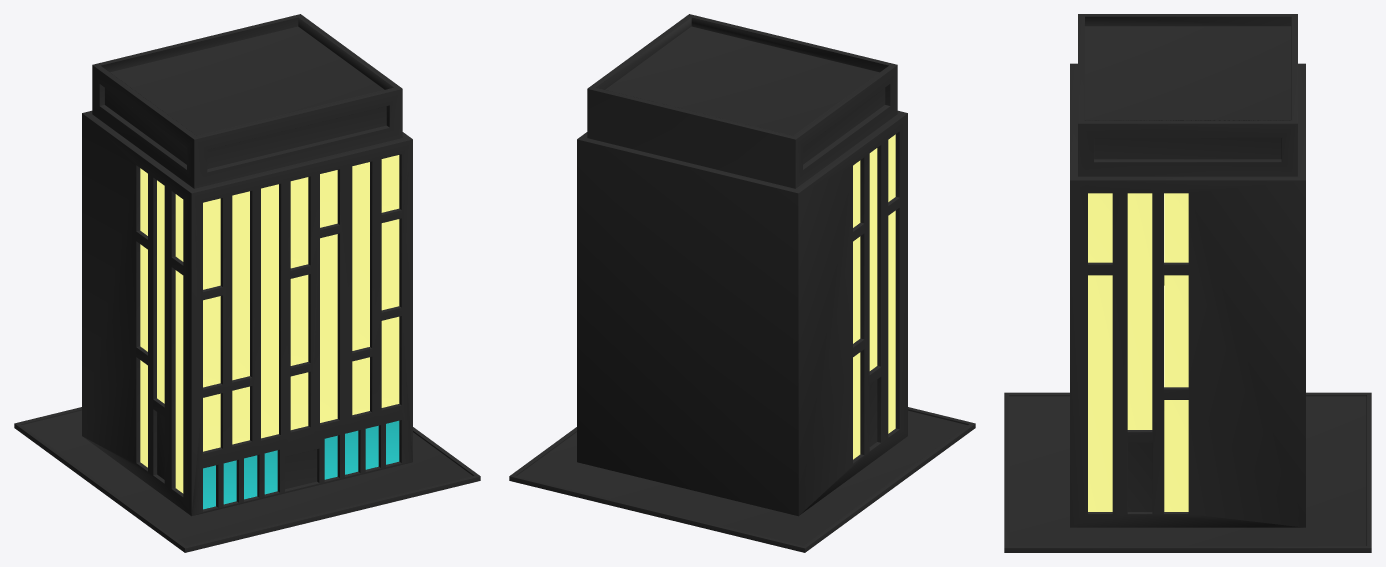
File: building-transformed.glb
The picture shows the model from 3 angles, left to right: view 1: azimuth 30°, elevation 25°; view 2: azimuth 150°, elevation 25°; view 3: azimuth 270°, elevation 25°; orthographic projection. The views are drawn at different scales.
Parts seen in each view (by area): view 1: Build11_obj; view 2: Build11_obj; view 3: Build11_obj.
Boxes of the visible parts, <box> form: Build11_obj: <box>14,14,480,552</box>; Build11_obj: <box>509,14,975,552</box>; Build11_obj: <box>1004,14,1371,552</box>.
Bounding box in the file's own units: 186 × 227 × 186.
